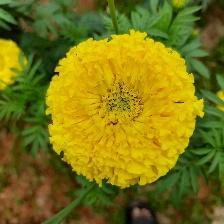marigold: (48, 32, 201, 187)
